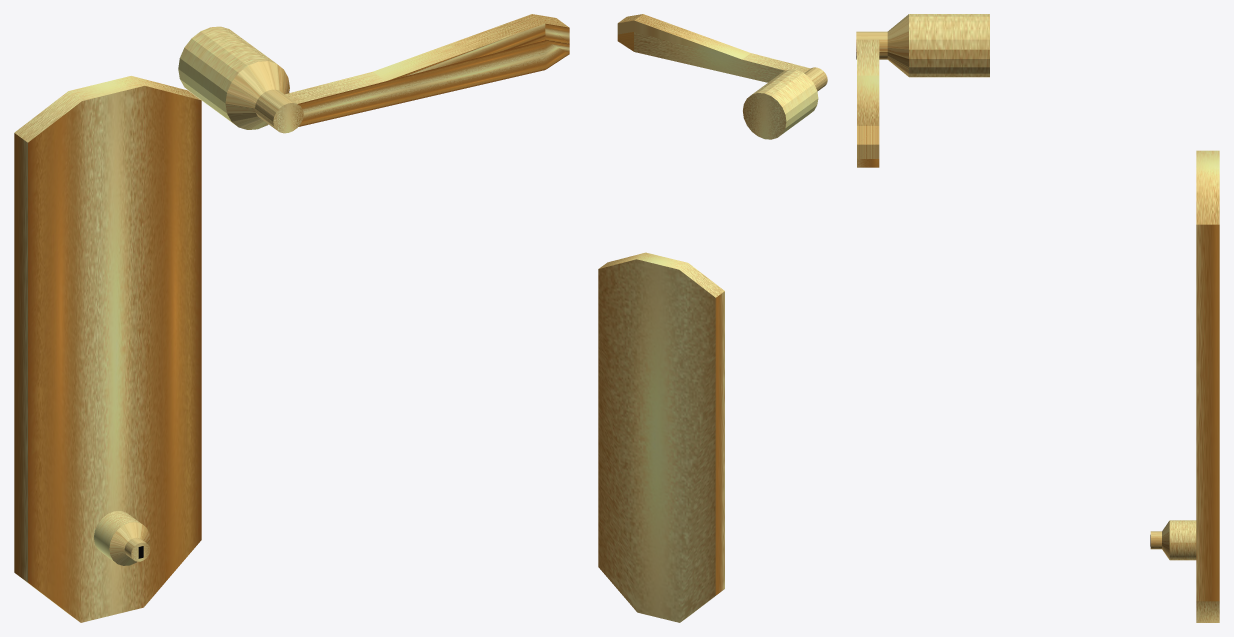
The model's file is handle.FBX.
The picture shows the model from 3 angles, left to right: view 1: azimuth 30°, elevation 25°; view 2: azimuth 150°, elevation 25°; view 3: azimuth 270°, elevation 25°; orthographic projection. The views are drawn at different scales.
Visible parts, largest first — view 1: polySurface2, handle; view 2: polySurface2, handle; view 3: polySurface2, handle.
Boxes of the visible parts, x1=… form: polySurface2: x1=14, y1=76, x2=201, y2=622; handle: x1=178, y1=14, x2=569, y2=133; polySurface2: x1=598, y1=252, x2=724, y2=622; handle: x1=617, y1=14, x2=827, y2=139; polySurface2: x1=1150, y1=150, x2=1219, y2=622; handle: x1=856, y1=14, x2=989, y2=167.
Bounding box in the file's own units: 162 × 306 × 173.
Materials: 3 (1 with a texture image).
